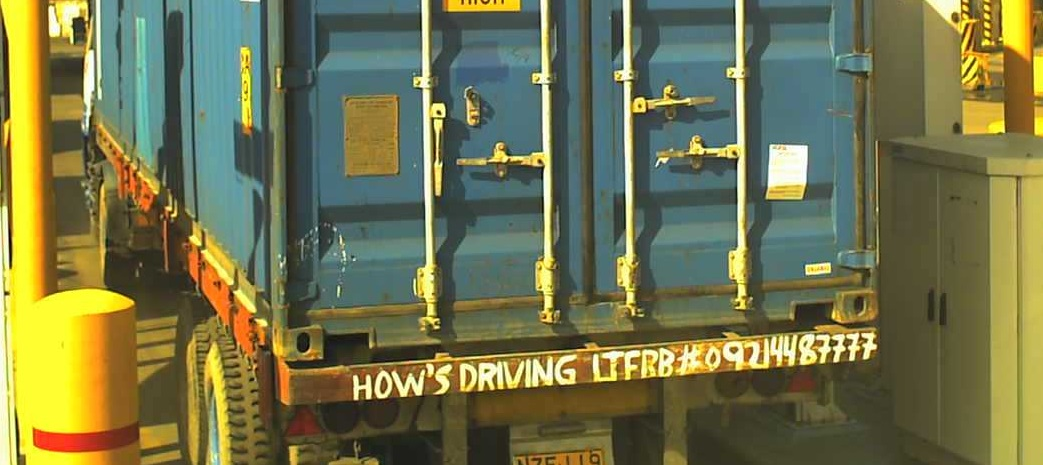container_door: (276, 3, 881, 366)
